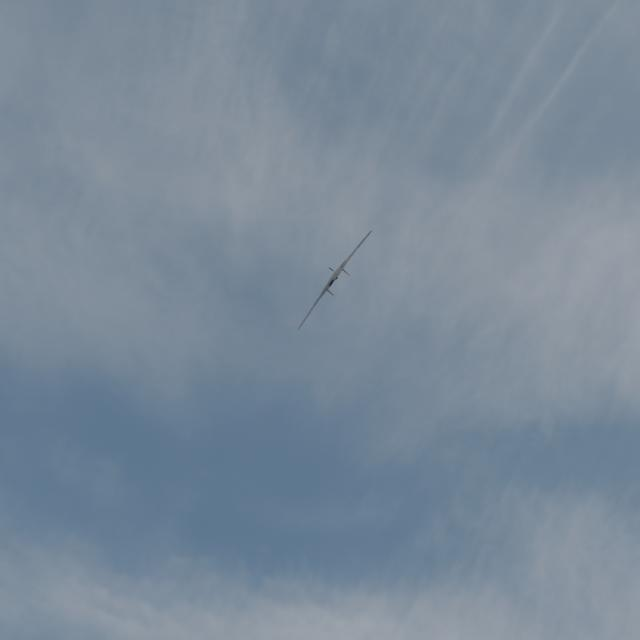Airaplan: (298, 230, 372, 330)
